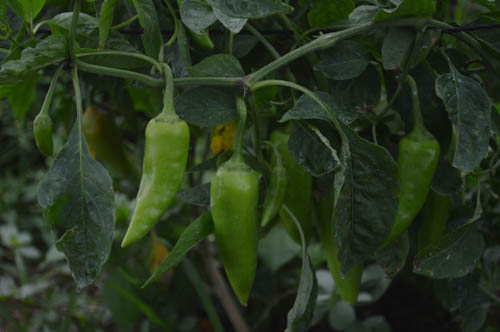ChiliPepper: (118, 109, 193, 254), (377, 117, 440, 261), (206, 156, 262, 310), (315, 171, 365, 308), (267, 123, 318, 251), (77, 102, 141, 184), (417, 182, 457, 273), (256, 150, 289, 238), (34, 114, 57, 157)
